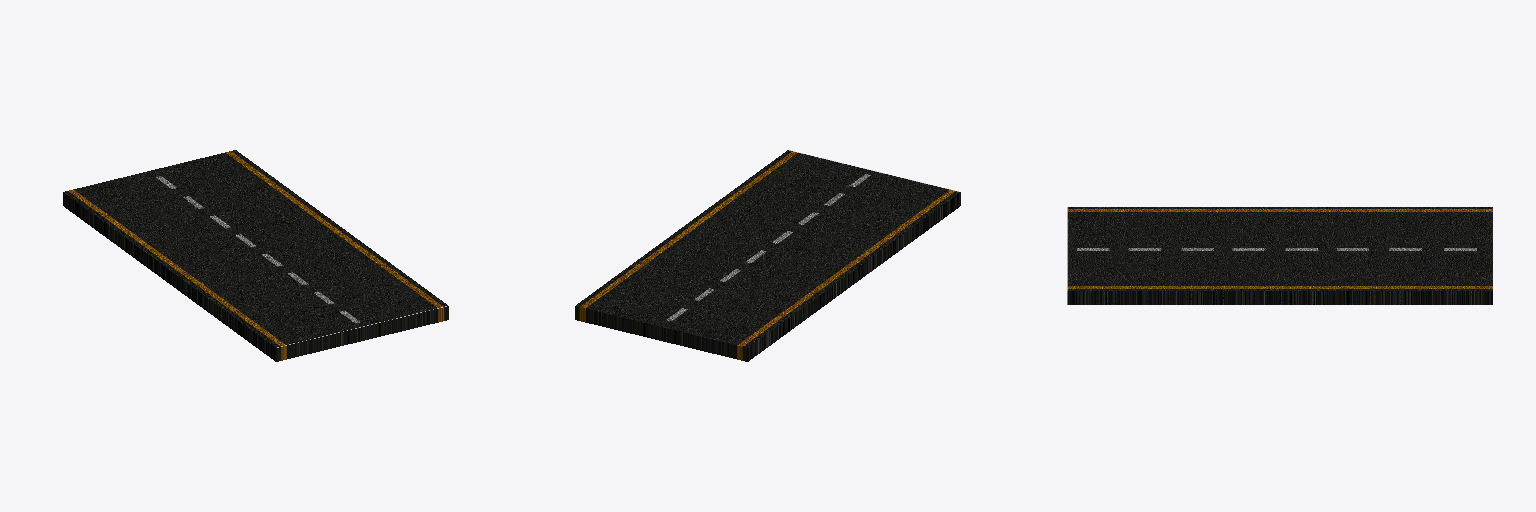
The picture shows the model from 3 angles: view 1: azimuth 30°, elevation 25°; view 2: azimuth 150°, elevation 25°; view 3: azimuth 270°, elevation 25°; orthographic projection.
Visible parts, largest first — view 1: Box002; view 2: Box002; view 3: Box002.
Boxes of the visible parts, x1,y1,x2,y2 form: Box002: [63, 150, 448, 361]; Box002: [575, 150, 960, 361]; Box002: [1067, 207, 1492, 304].
Bounding box in the file's own units: 5.9 × 0.4579 × 12.61.
Materials: 1 (1 with a texture image).